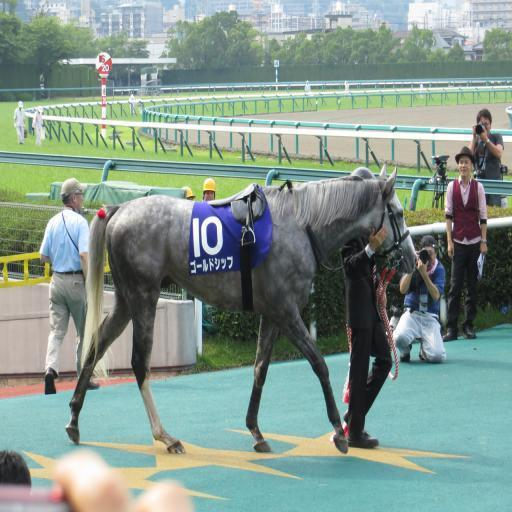horse: (63, 160, 422, 458)
